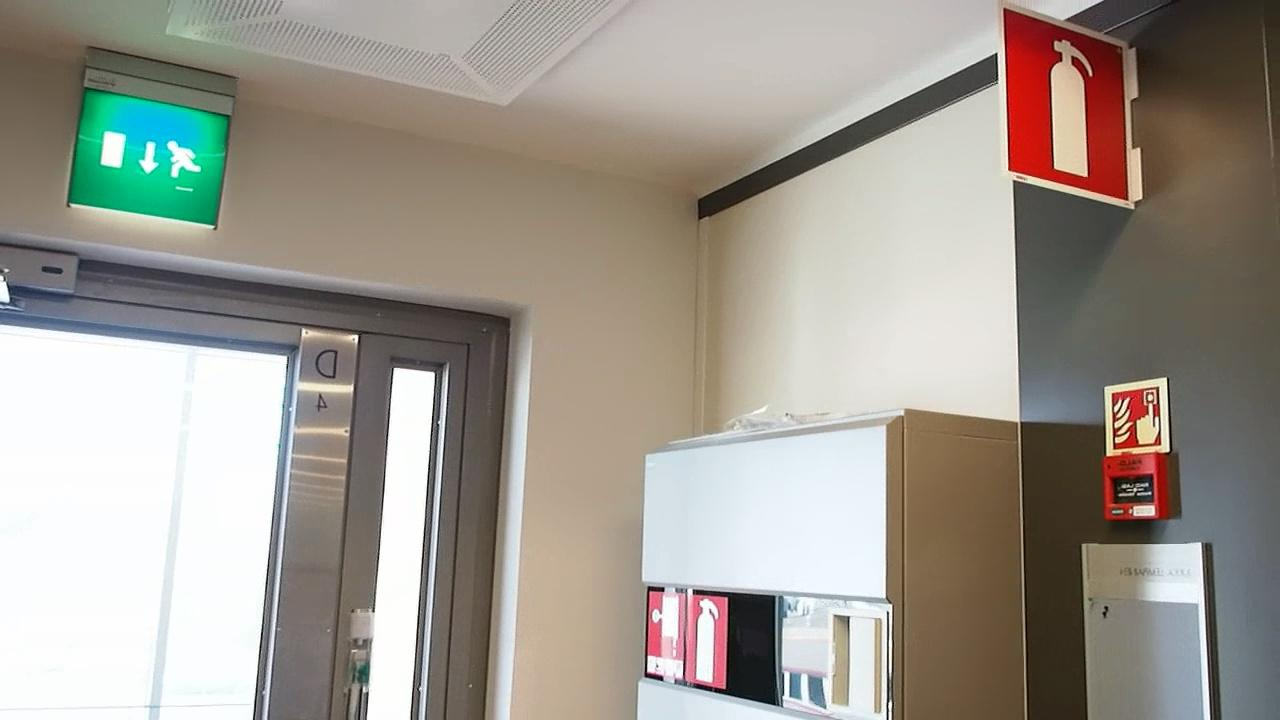exit: (61, 90, 225, 219)
fireextinguisher: (1013, 23, 1128, 187), (683, 594, 730, 686)
